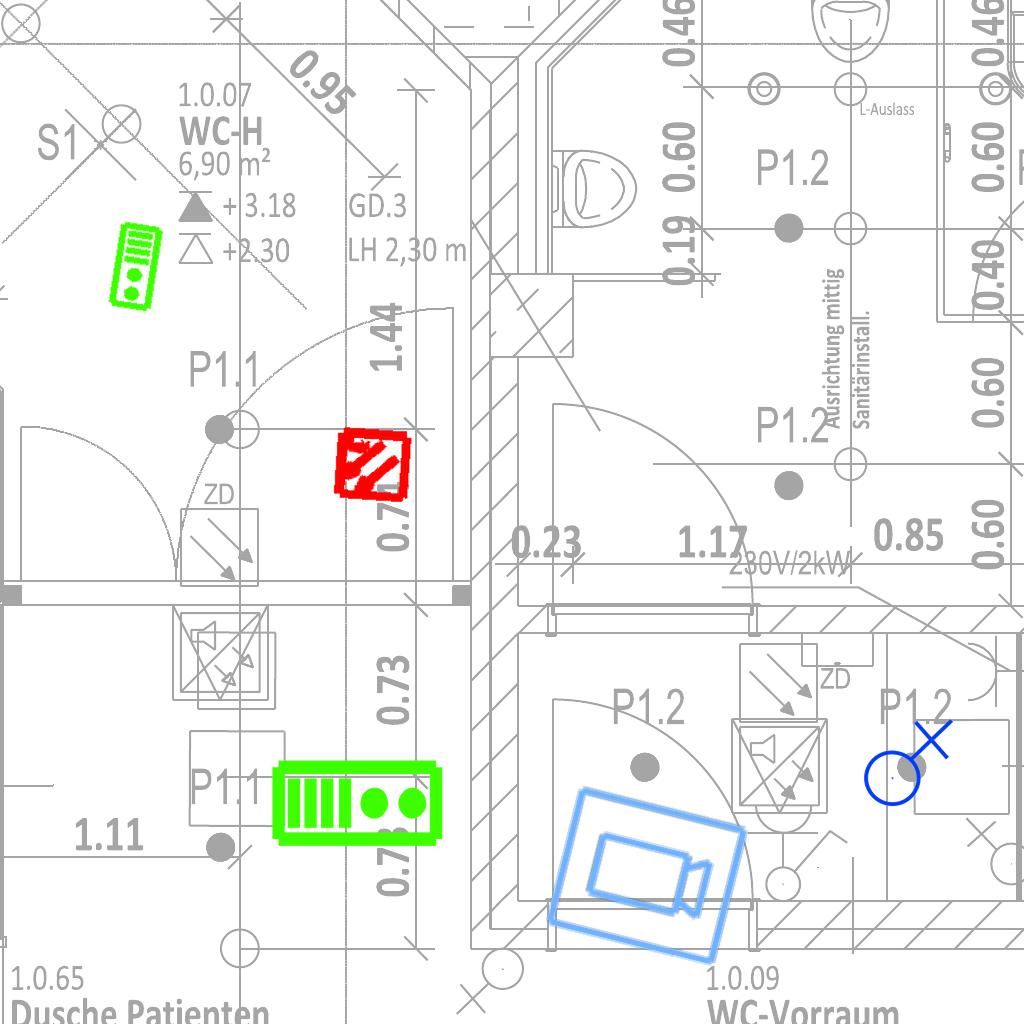Elektroanschluss_allgemein_230V_Geraeteanschlussdose_230V: (855, 714, 954, 808)
Gegensprechanlage_mit_Video: (270, 754, 446, 849), (106, 219, 167, 315)
KFO_Kamera_mit_Festobjektiv: (539, 780, 753, 974)
OT_Multisensormelder_(Kombination_RMO_WMD): (310, 404, 431, 525)
